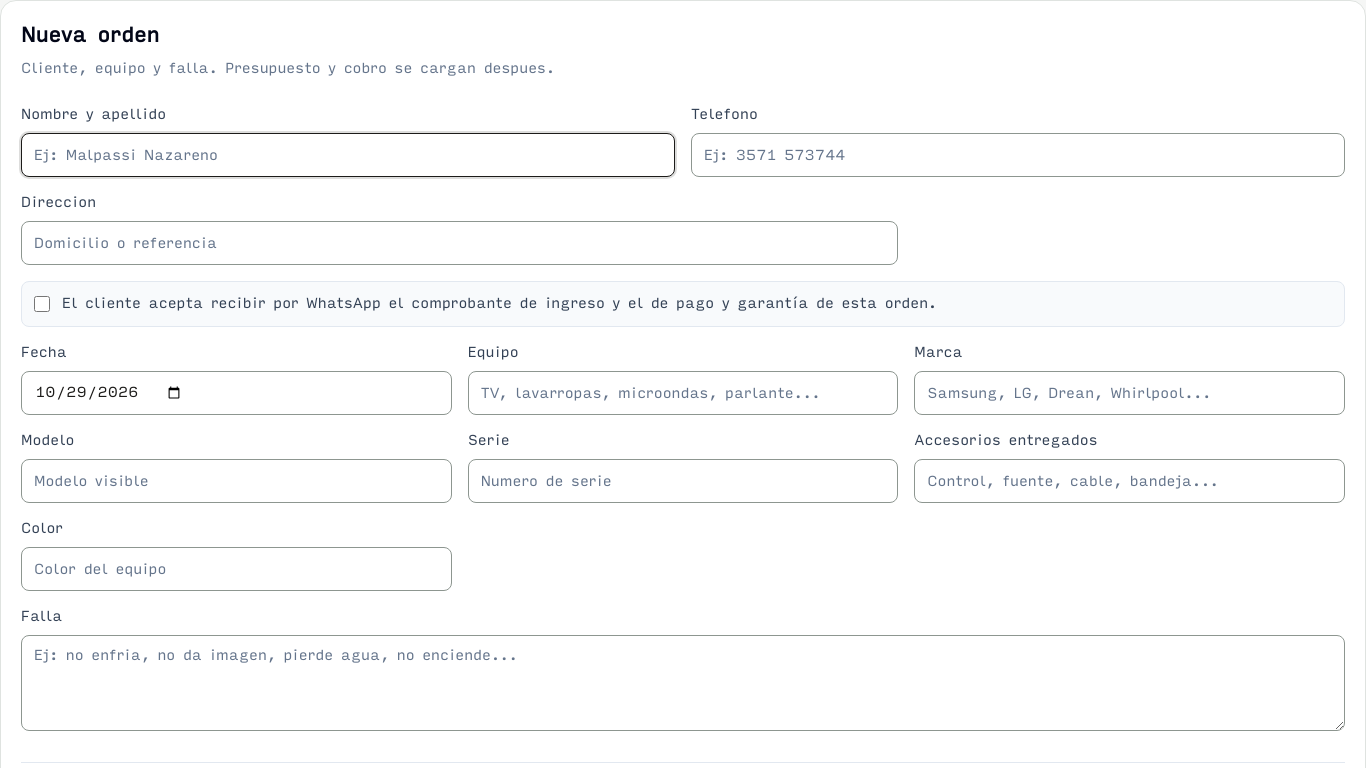
RepairAccessNewOrderWizard › dismisses a keyboard-focused suggestion with Escape and returns focus to its input
The width and height of the screenshot is (1366, 768).
Type "Maria" into the dropdown labelled "Nombre y apellido".
click(348, 155); type("Maria")  # box [21,133,675,177]
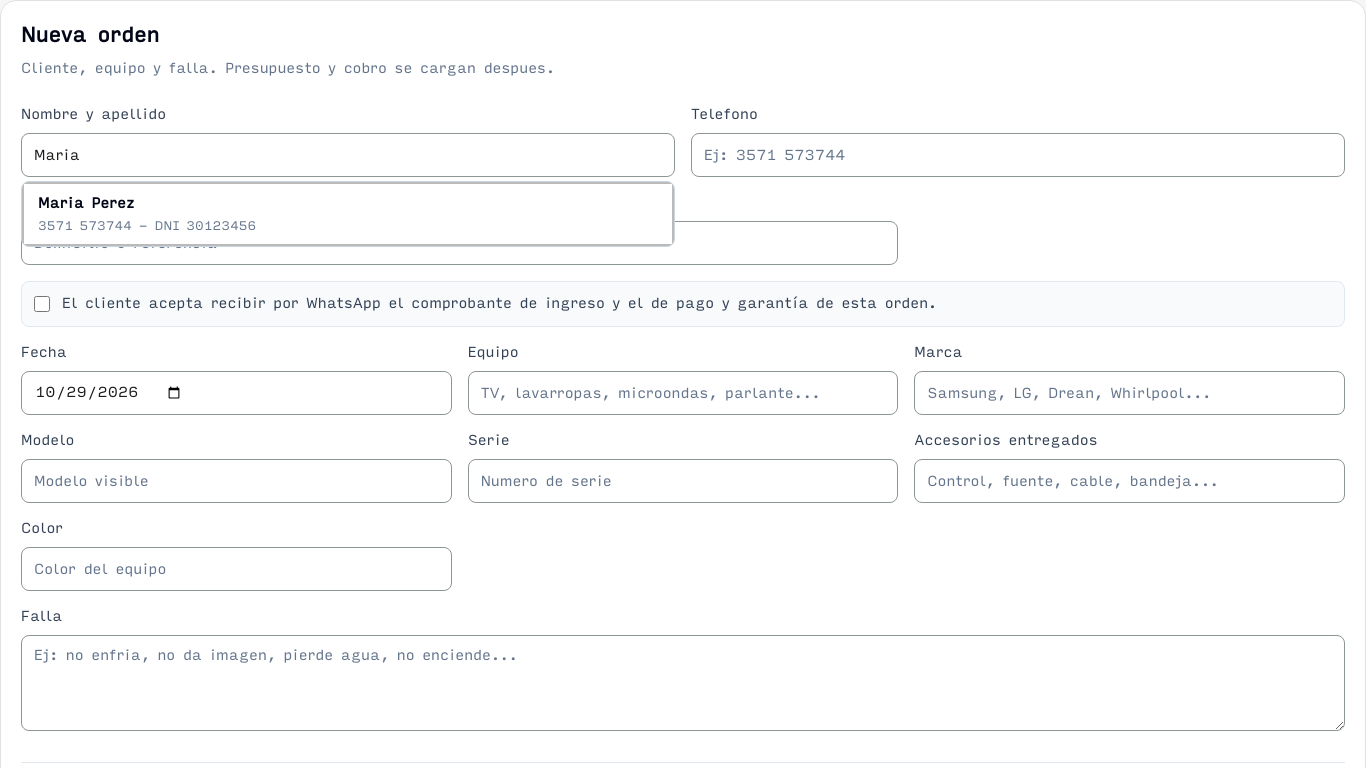
Press Escape in the option "Maria Perez 3571 573744 - DNI 30123456", box [22,182,674,246]
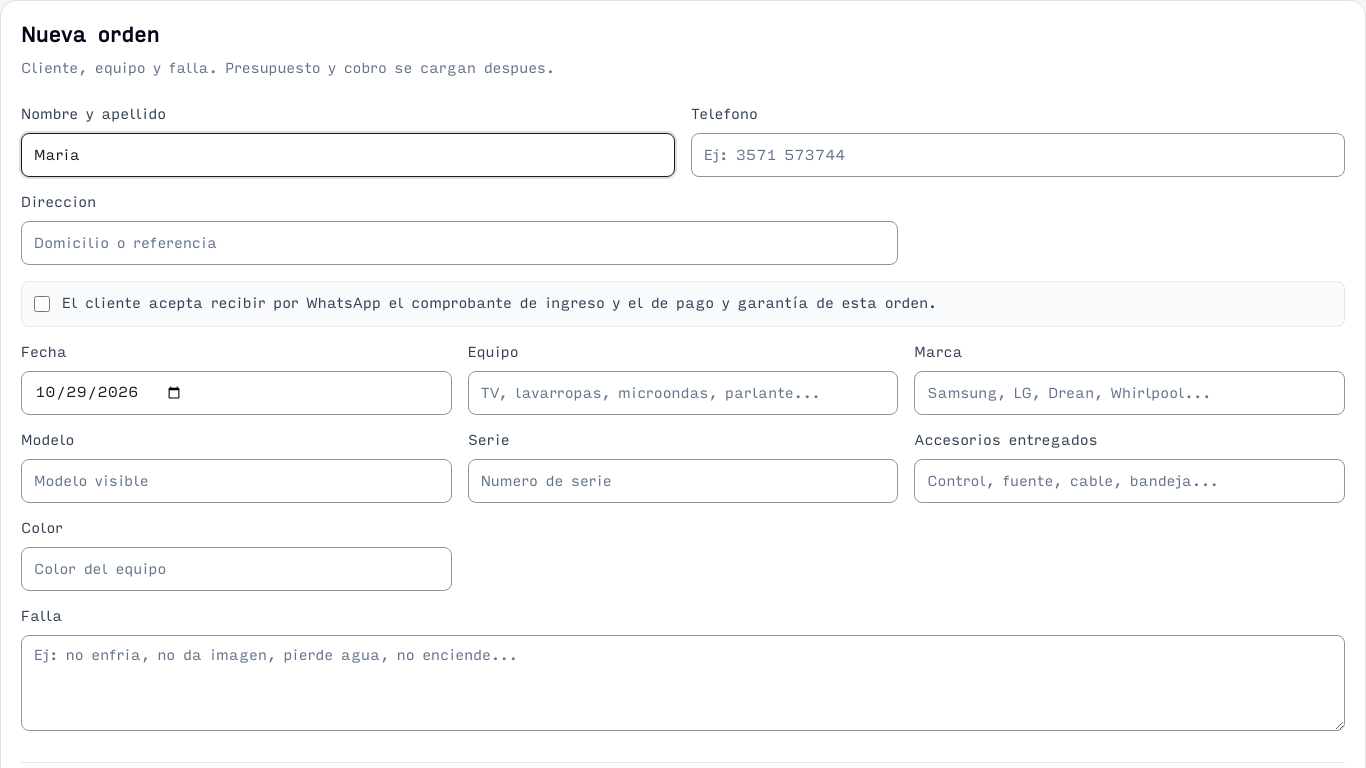
Expected: the option "Maria Perez" is gone
